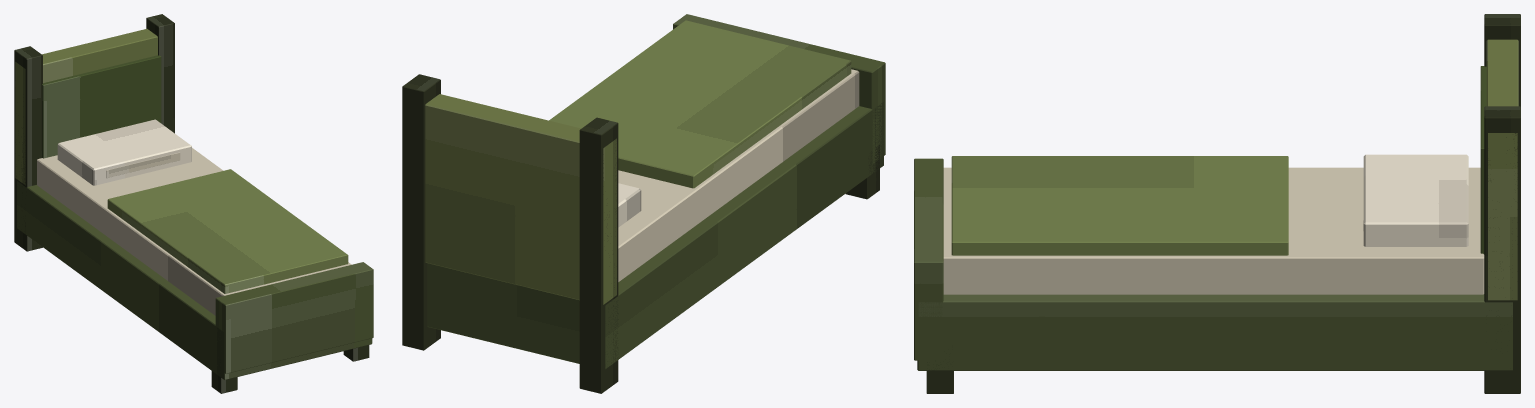
File: single_bed_olive.glb
3 renders of one model, left to right at view 1: azimuth 30°, elevation 25°; view 2: azimuth 150°, elevation 25°; view 3: azimuth 270°, elevation 25°, orthographic. The views are drawn at different scales.
Parts seen in each view (by area): view 1: Blanket, BedFrame, Footboard, Mattress, HeadboardInset, Pillow_1, HeadboardPanel, HeadPostL, HeadPostR, PillowBand_1, FootL, FootR; view 2: BedFrame, HeadboardPanel, Blanket, Mattress, HeadPostL, HeadPostR, Footboard, Pillow_1, FootL; view 3: BedFrame, Blanket, Mattress, Pillow_1, HeadboardPanel, Footboard, HeadPostR, HeadPostL, HeadboardInset, FootR.
Part boxes in pixels (left/top/right/bottom): Blanket: left=107, top=169, right=348, bottom=293; BedFrame: left=17, top=181, right=372, bottom=379; Footboard: left=215, top=262, right=373, bottom=373; Mattress: left=37, top=148, right=351, bottom=315; HeadboardInset: left=42, top=55, right=161, bottom=158; Pillow_1: left=57, top=119, right=191, bottom=185; HeadboardPanel: left=15, top=29, right=157, bottom=185; HeadPostL: left=14, top=46, right=42, bottom=251; HeadPostR: left=146, top=14, right=174, bottom=133; PillowBand_1: left=106, top=152, right=180, bottom=178; FootL: left=211, top=362, right=237, bottom=393; FootR: left=343, top=345, right=369, bottom=361; BedFrame: left=427, top=102, right=883, bottom=368; HeadboardPanel: left=425, top=94, right=616, bottom=304; Blanket: left=549, top=20, right=851, bottom=188; Mattress: left=618, top=69, right=859, bottom=281; HeadPostL: left=579, top=117, right=618, bottom=393; HeadPostR: left=402, top=74, right=440, bottom=350; Footboard: left=673, top=14, right=885, bottom=163; Pillow_1: left=618, top=183, right=641, bottom=227; FootL: left=845, top=145, right=879, bottom=199; BedFrame: left=917, top=294, right=1512, bottom=370; Blanket: left=951, top=156, right=1288, bottom=255; Mattress: left=943, top=167, right=1484, bottom=294; Pillow_1: left=1363, top=154, right=1468, bottom=246; HeadboardPanel: left=1486, top=39, right=1518, bottom=300; Footboard: left=914, top=158, right=943, bottom=360; HeadPostR: left=1484, top=106, right=1520, bottom=393; HeadPostL: left=1484, top=14, right=1520, bottom=106; HeadboardInset: left=1480, top=66, right=1486, bottom=254; FootR: left=926, top=362, right=953, bottom=393.
Size of the model in its own units: 1.08 by 1.34 by 2.66.
Materials: 1 (1 with a texture image).
